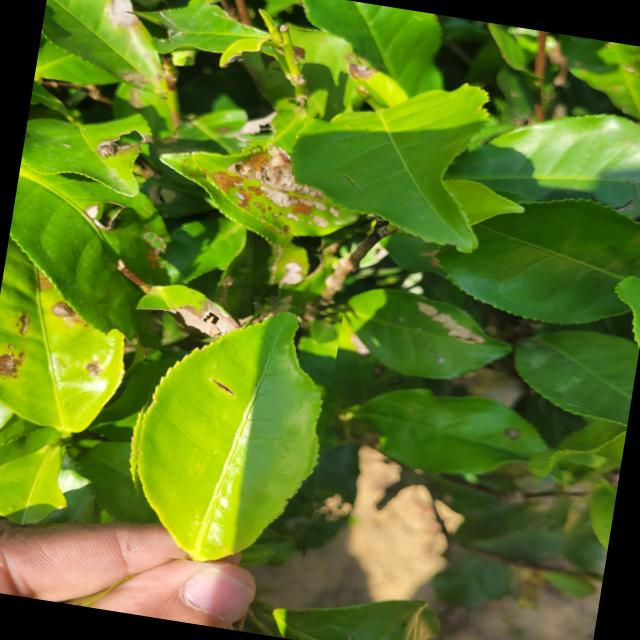Catagory A(1-2 days): (116, 276, 344, 578)
